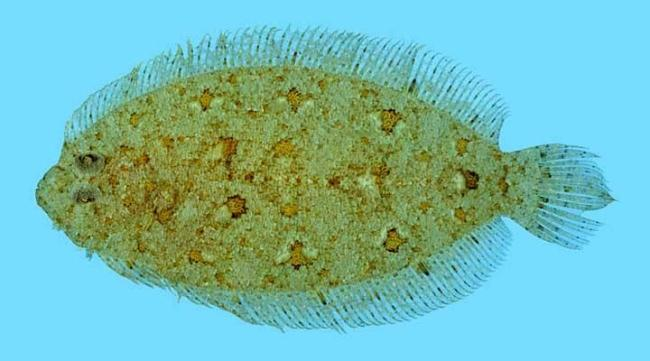fish: (36, 26, 613, 329)
